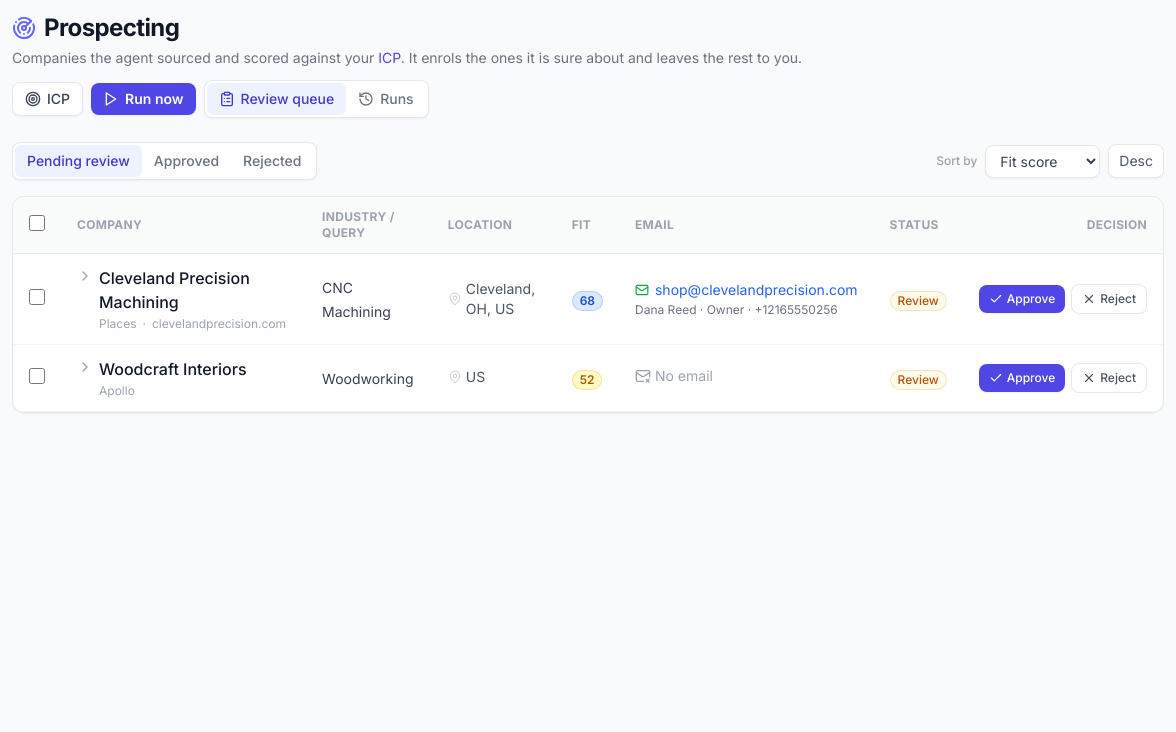
it: Prospecting page › collapses the rationale again on a second click
The width and height of the screenshot is (1176, 732).
Click the button named "show why Cleveland Precision Machining scored 68" at (85, 276), box x1=77 y1=268 x2=93 y2=284
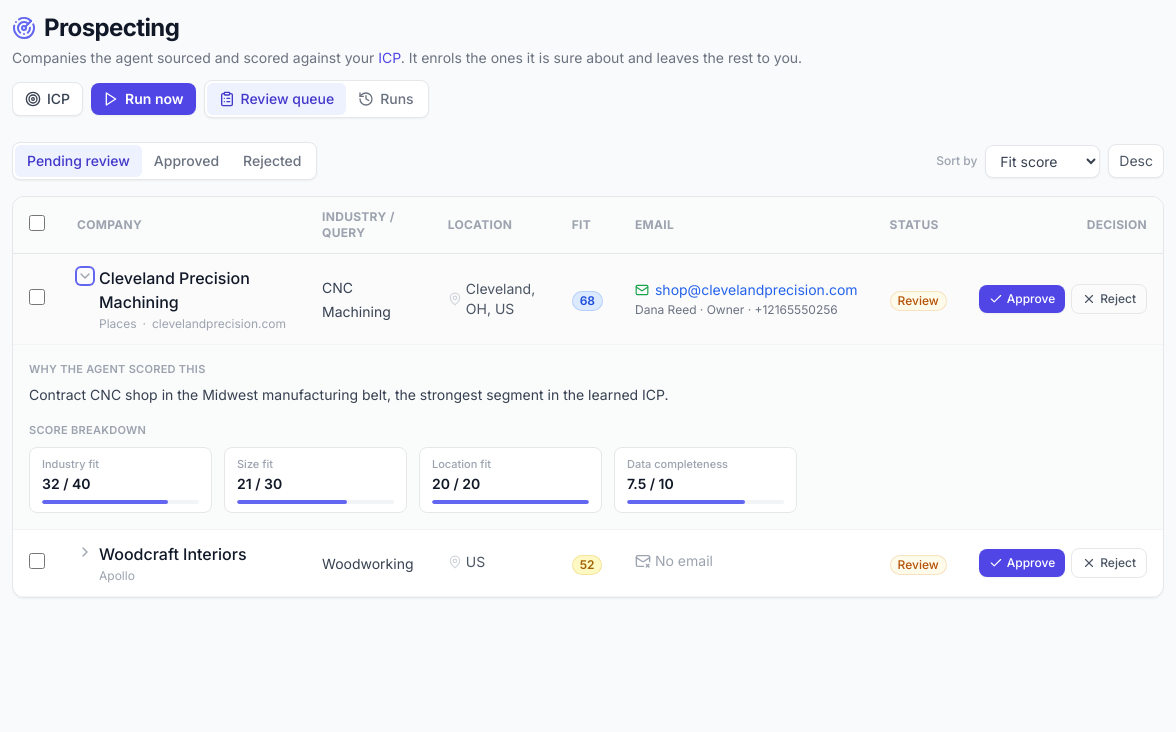
Now the text "32 / 40" is shown, box x1=42 y1=475 x2=91 y2=492
Click the button named "hide why Cleveland Precision Machining scored 68" at (85, 276), box x1=77 y1=268 x2=93 y2=284
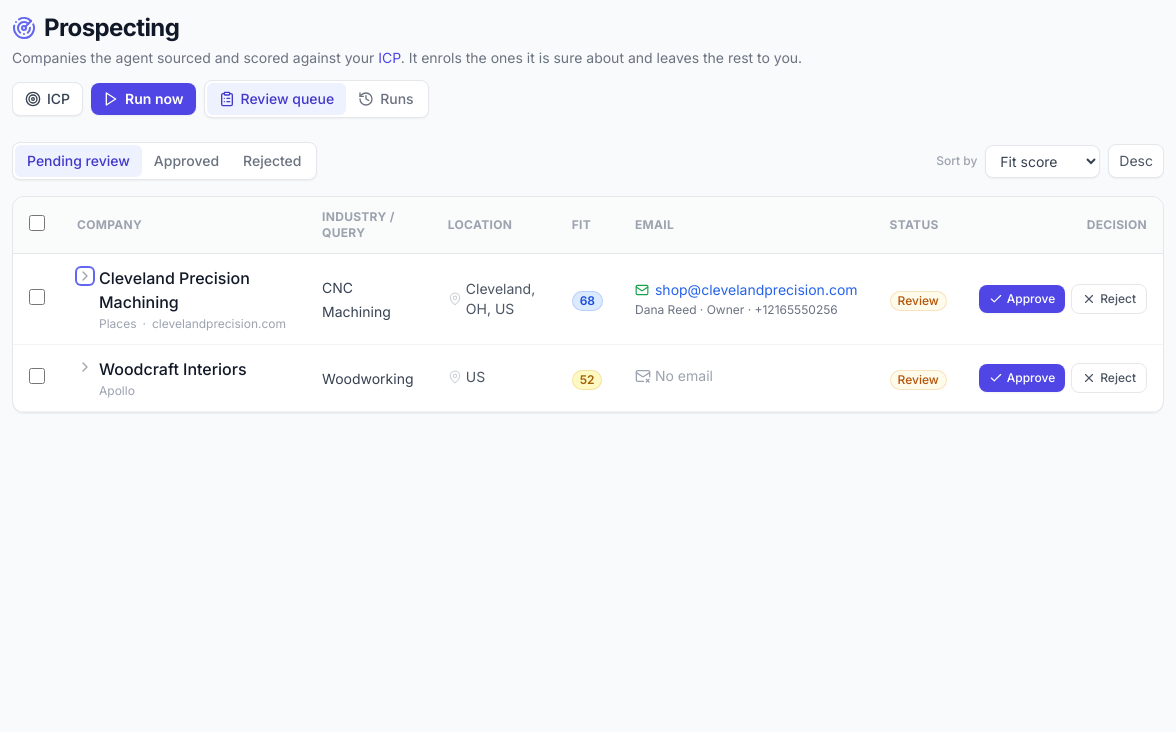
Now the text "32 / 40" is gone
